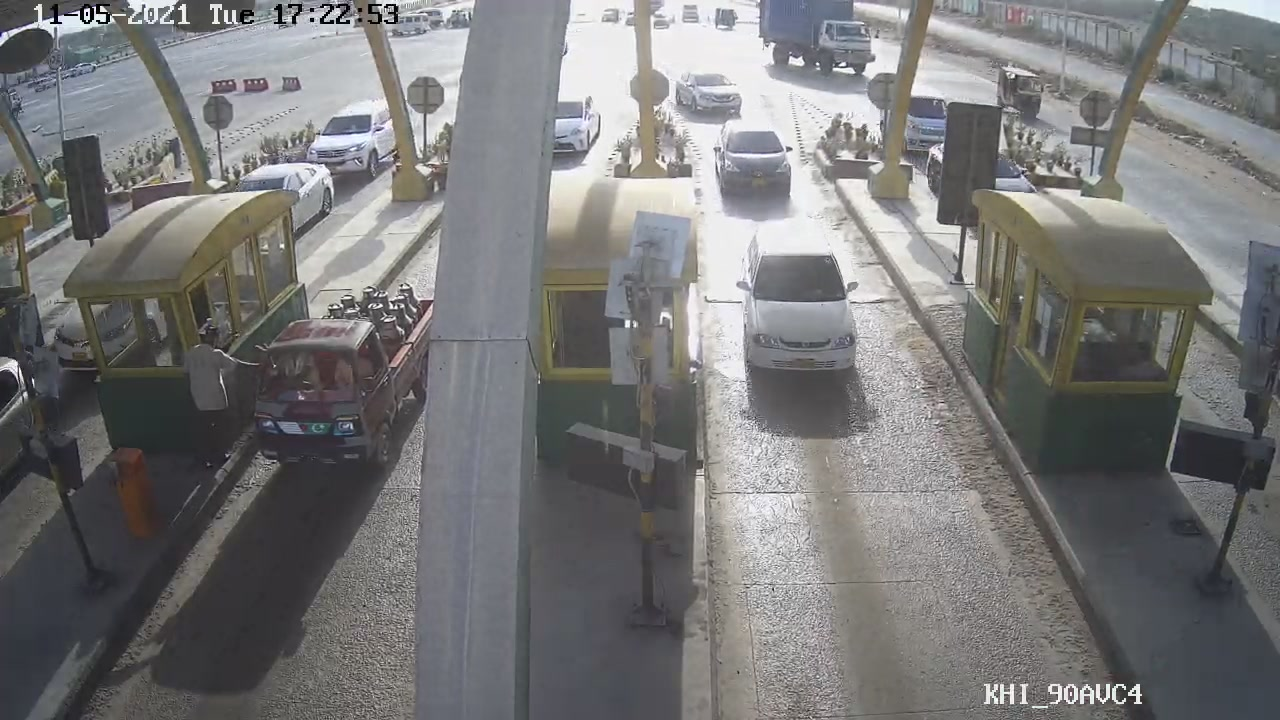F1: (734, 217, 868, 380), (709, 113, 804, 209)
